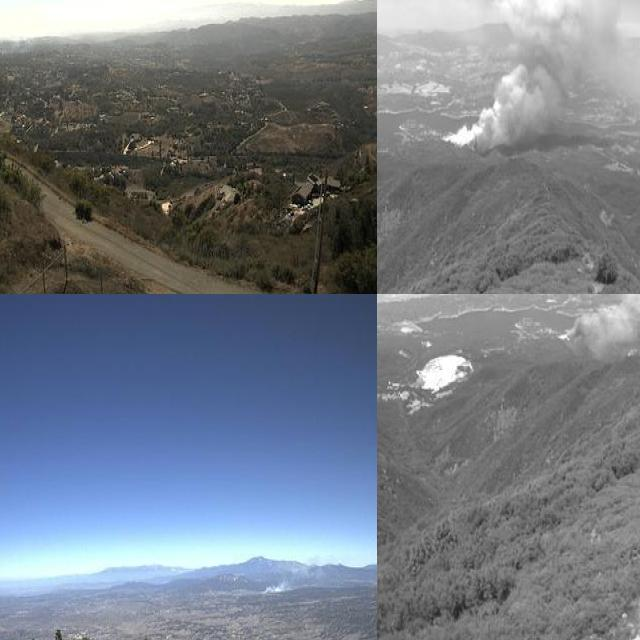smoke: (441, 0, 625, 155), (252, 551, 332, 593), (0, 26, 28, 56)
